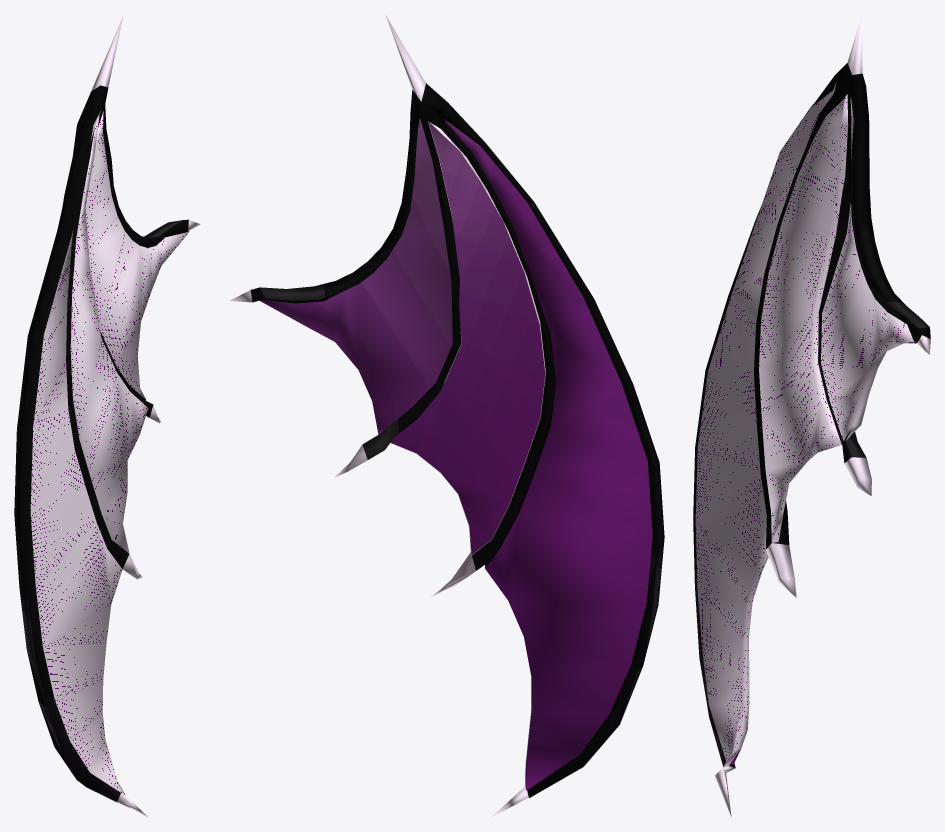
File: wingsR.glb
3 views of the same model, side by side, from view 1: azimuth 30°, elevation 25°; view 2: azimuth 150°, elevation 25°; view 3: azimuth 270°, elevation 25° (orthographic). The views are drawn at different scales.
Parts seen in each view (by area): view 1: succubuswingsR; view 2: succubuswingsR; view 3: succubuswingsR.
Part boxes in pixels (x1,y1,x2,y2): succubuswingsR: [14, 15, 200, 817]; succubuswingsR: [229, 15, 664, 817]; succubuswingsR: [693, 14, 930, 817].
Size of the model in its own units: 0.4467 by 1.14 by 0.2978.
1 material, 1 textured.
